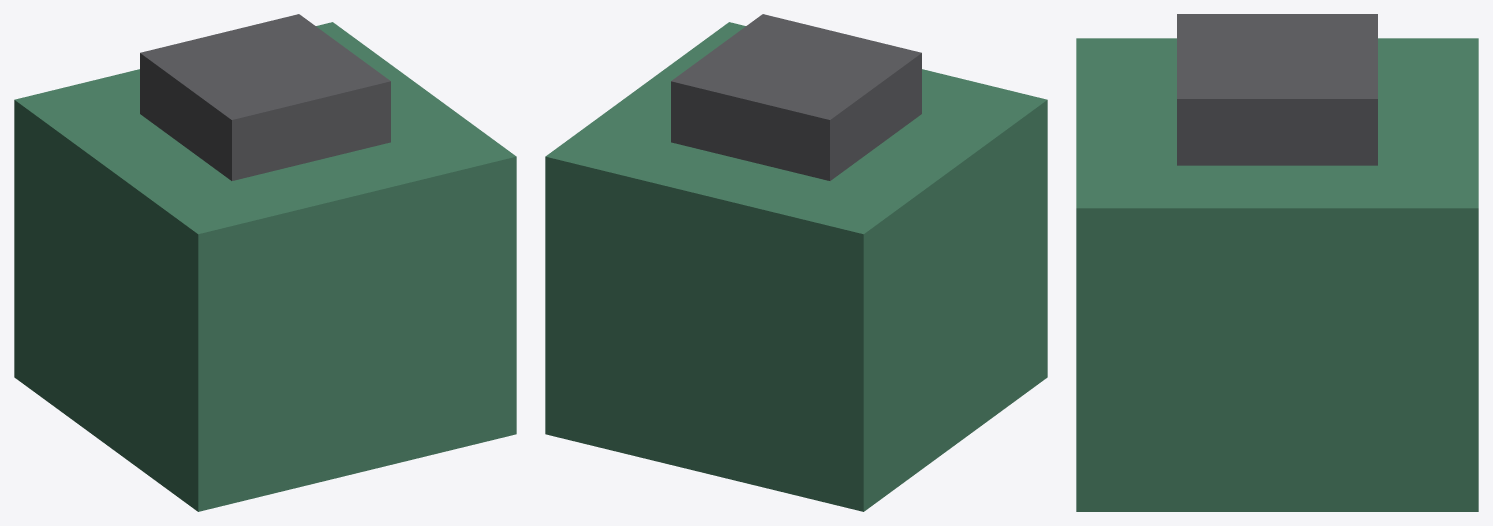
The model's file is tact-6mm.glb.
The picture shows the model from 3 angles, left to right: view 1: azimuth 30°, elevation 25°; view 2: azimuth 150°, elevation 25°; view 3: azimuth 270°, elevation 25°; orthographic projection. The views are drawn at different scales.
Parts seen in each view (by area): view 1: tact-6mm-pcb, tact-6mm-ic; view 2: tact-6mm-pcb, tact-6mm-ic; view 3: tact-6mm-pcb, tact-6mm-ic.
Boxes of the visible parts, bbox=[...] form: tact-6mm-pcb: bbox=[14, 22, 516, 511]; tact-6mm-ic: bbox=[140, 14, 390, 180]; tact-6mm-pcb: bbox=[545, 22, 1047, 511]; tact-6mm-ic: bbox=[671, 14, 921, 180]; tact-6mm-pcb: bbox=[1076, 38, 1478, 511]; tact-6mm-ic: bbox=[1177, 14, 1377, 165].
Bounding box in the file's own units: 0.006 × 0.0061 × 0.006.
